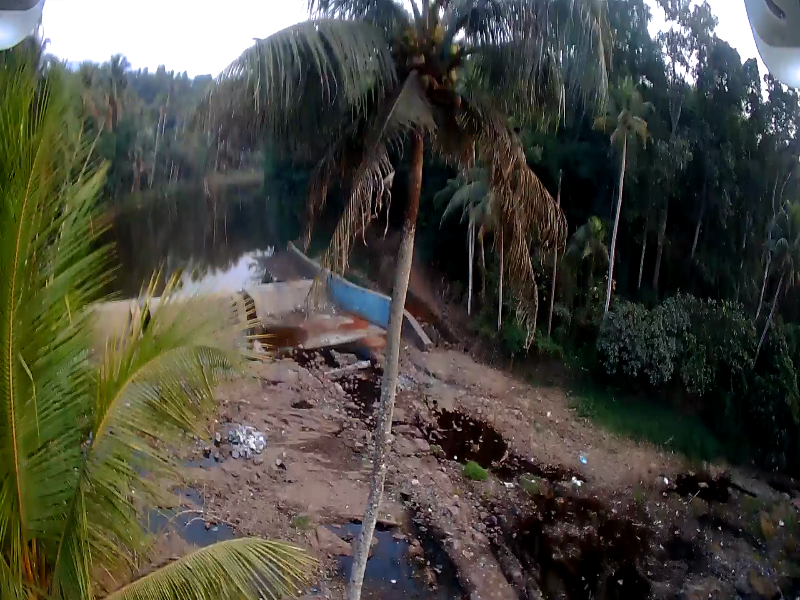coconut: (447, 44, 461, 55), (447, 67, 457, 79)
